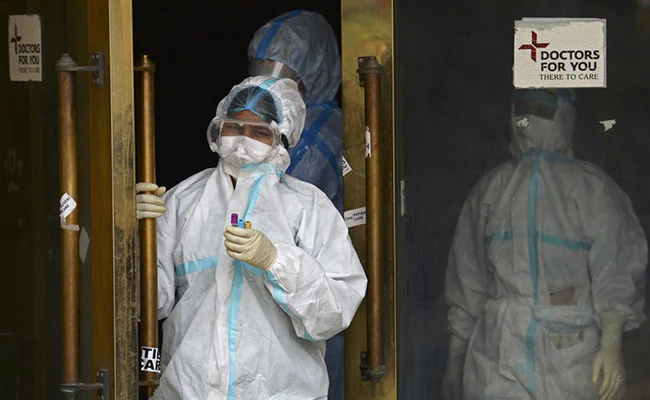Coverall: (446, 84, 632, 400), (153, 161, 356, 400)
Gloves: (588, 315, 633, 399), (217, 221, 282, 271), (134, 177, 166, 219)
Goggles: (204, 110, 282, 154)
with_mask: (212, 114, 279, 174)
